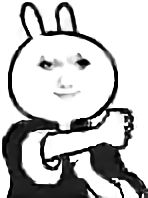dragon: (38, 53, 92, 100)
